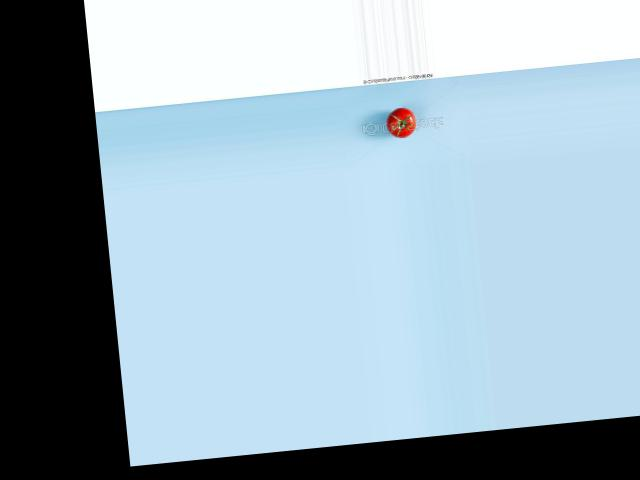tomato: (386, 105, 417, 138)
